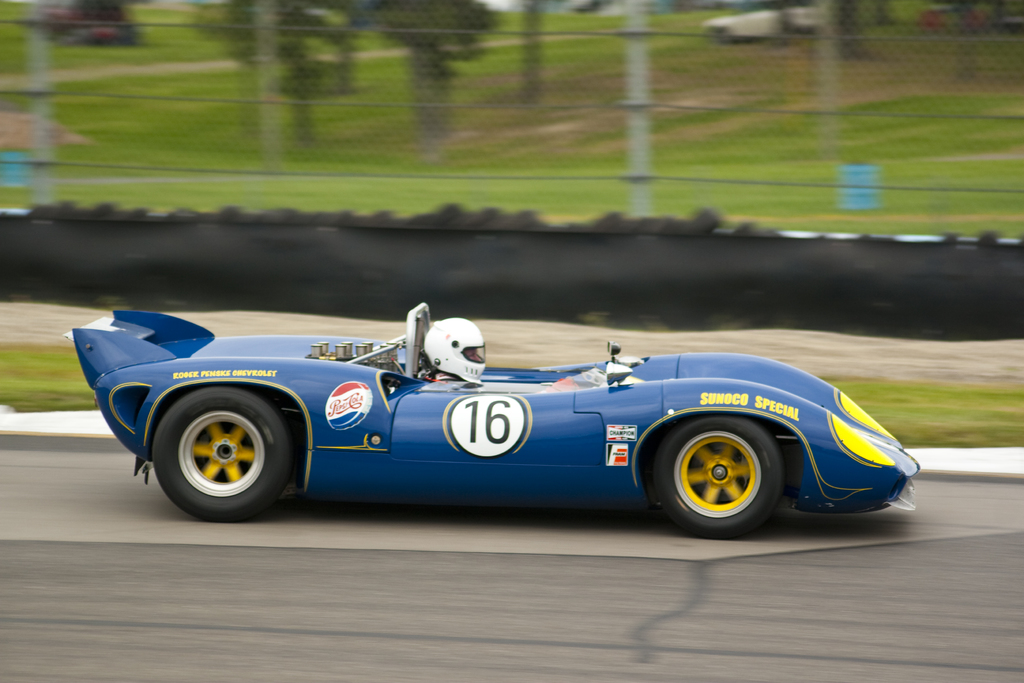mobil: (86, 300, 948, 587)
